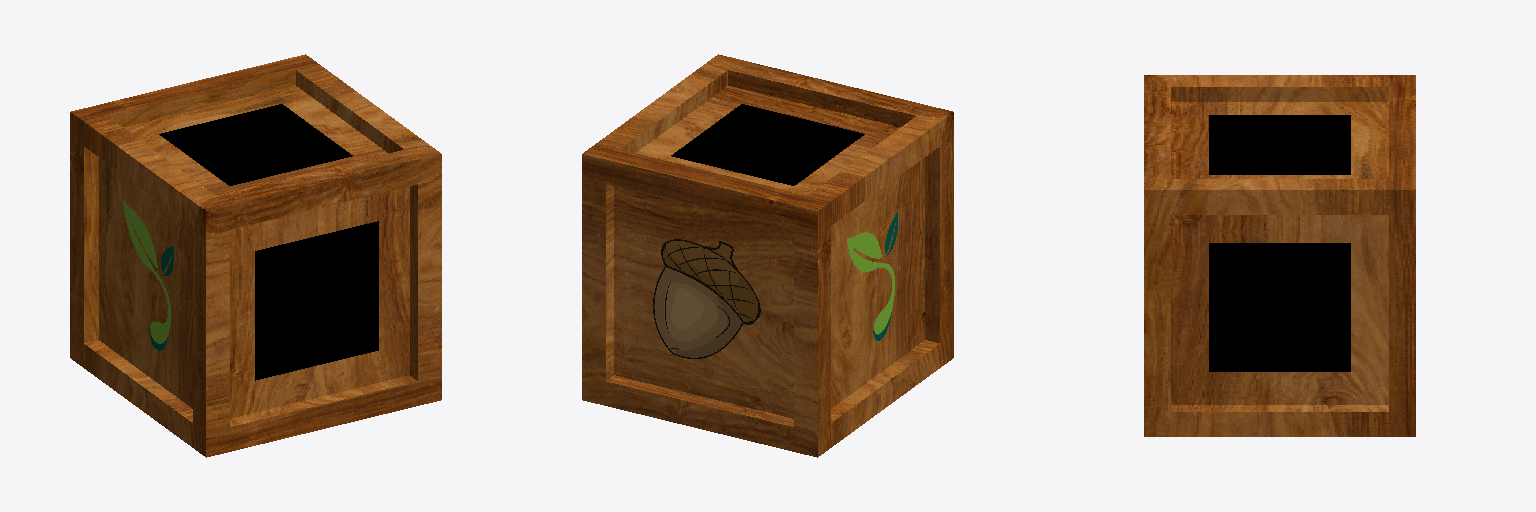
3 views of the same model, side by side, from view 1: azimuth 30°, elevation 25°; view 2: azimuth 150°, elevation 25°; view 3: azimuth 270°, elevation 25° (orthographic).
Parts seen in each view (by area): view 1: pCube1, pCube1 pPlane4, pCube1 pPlane1, pCube1 pPlane3; view 2: pCube1, pCube1 pPlane5, pCube1 pPlane1, pCube1 pPlane3; view 3: pCube1, pCube1 pPlane2, pCube1 pPlane1.
Part boxes in pixels (x1,y1,x2,y2): pCube1: (70,54,441,457); pCube1 pPlane4: (255,221,378,380); pCube1 pPlane1: (159,104,352,185); pCube1 pPlane3: (123,200,173,350); pCube1: (582,54,953,457); pCube1 pPlane5: (653,239,760,358); pCube1 pPlane1: (671,104,864,185); pCube1 pPlane3: (847,211,897,340); pCube1: (1144,75,1415,436); pCube1 pPlane2: (1209,243,1350,371); pCube1 pPlane1: (1209,115,1350,174).
Size of the model in its own units: 20 by 20 by 20.
7 materials, 4 textured.